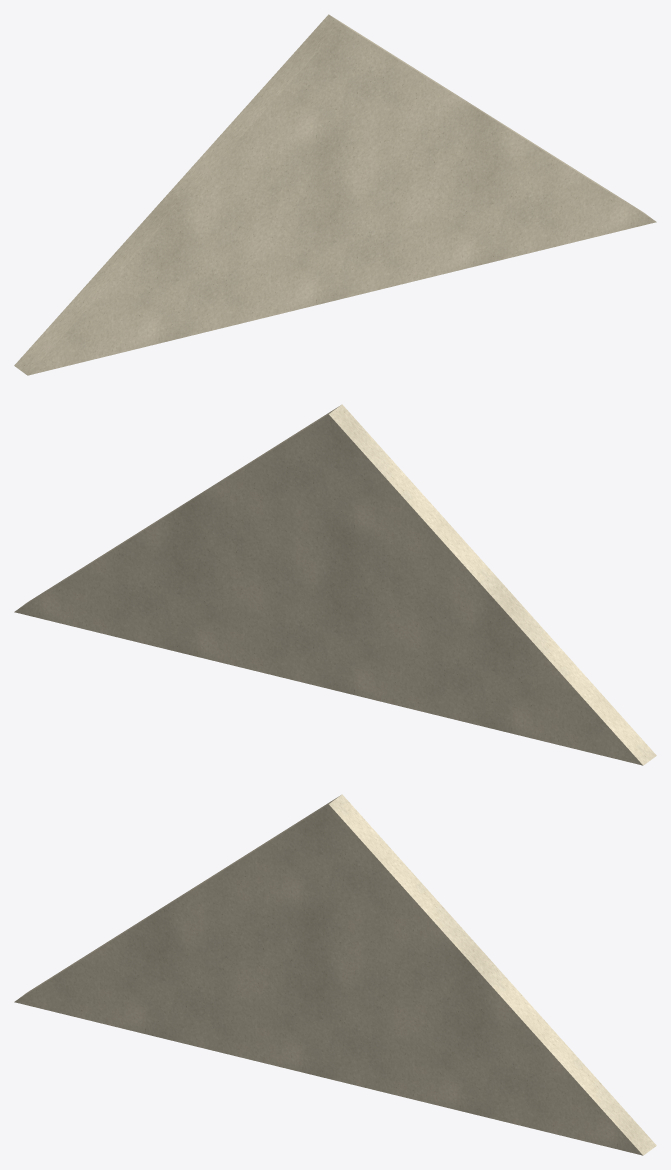
File: gable_back.glb
3 views of the same model, one above another, from view 1: azimuth 30°, elevation 25°; view 2: azimuth 150°, elevation 25°; view 3: azimuth 330°, elevation 25° (orthographic).
Visible parts, largest first — view 1: gable_back_render; view 2: gable_back_render; view 3: gable_back_render.
Part boxes in pixels (x1,y1,x2,y2): gable_back_render: [14, 14, 656, 375]; gable_back_render: [14, 404, 656, 765]; gable_back_render: [14, 794, 656, 1155].
Size of the model in its own units: 8 by 3.34 by 0.3.
1 material, 1 textured.
